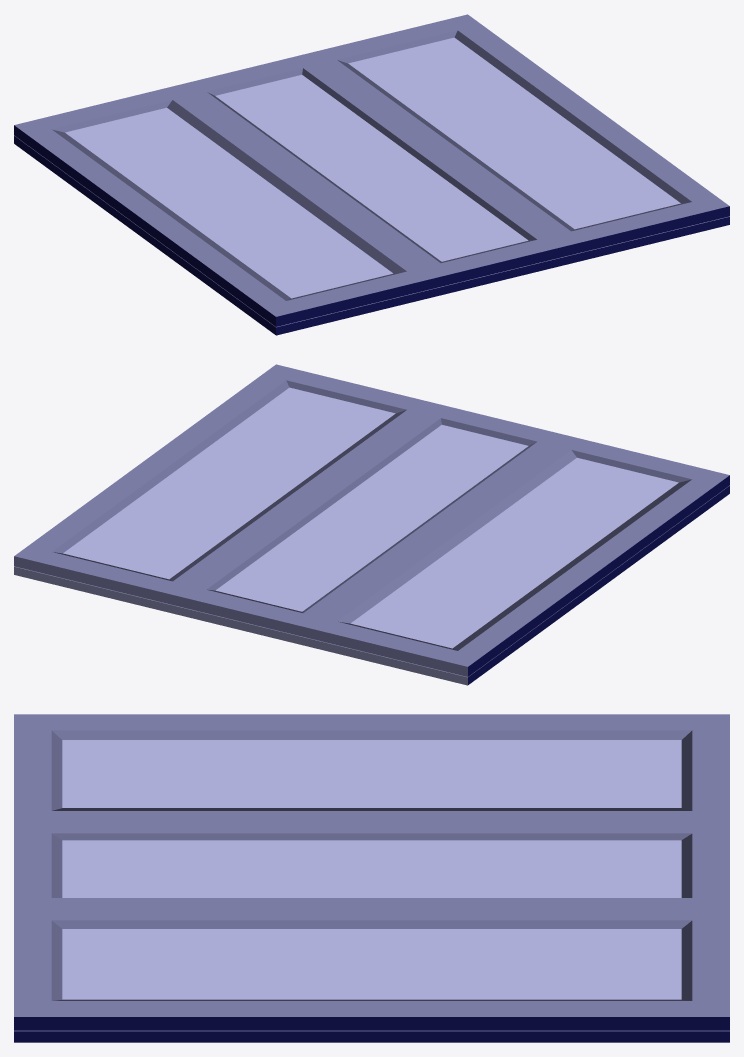
The model's file is Barrier_Plane.fbx.
3 renders of one model, top to bottom at view 1: azimuth 30°, elevation 25°; view 2: azimuth 150°, elevation 25°; view 3: azimuth 270°, elevation 25°, orthographic. The views are drawn at different scales.
Parts seen in each view (by area): view 1: up, down; view 2: up, down; view 3: up, down.
Part boxes in pixels (x1,y1,x2,y2): up: (14, 14, 729, 326); down: (14, 135, 729, 335); up: (14, 364, 729, 676); down: (14, 485, 729, 685); up: (14, 714, 729, 1030); down: (14, 1030, 729, 1042).
Size of the model in its own units: 50.37 by 1.98 by 50.36.
